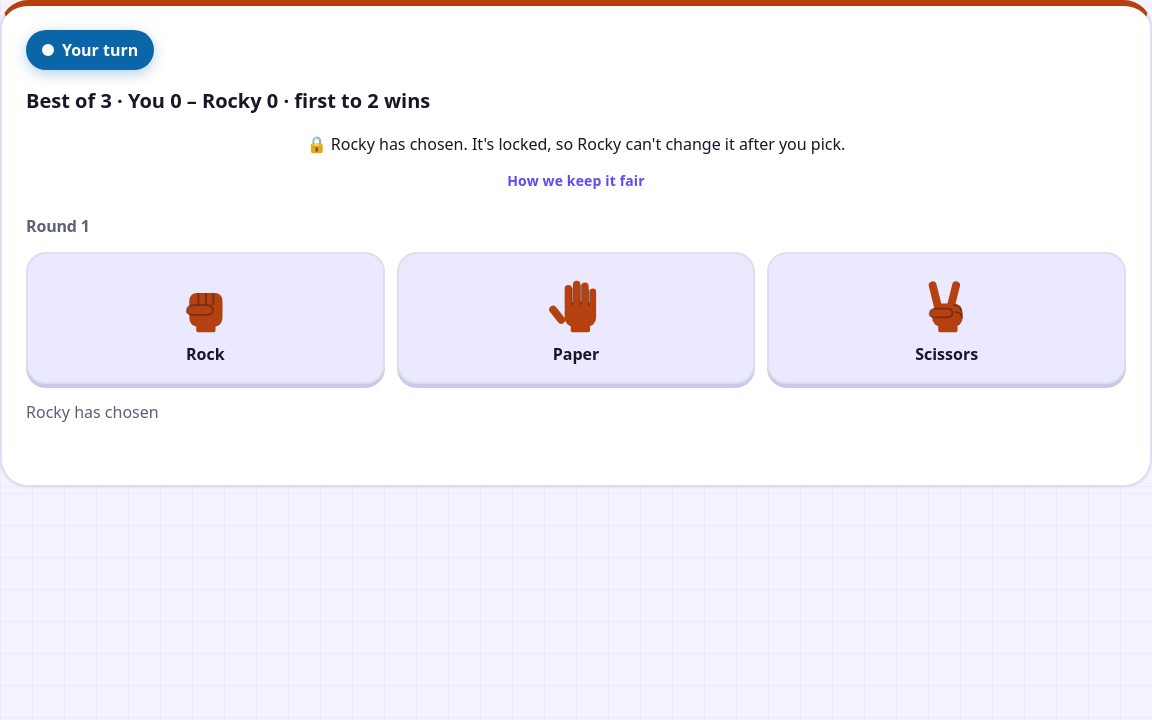
RpsBoard against a computer character › shows this round's lock in the proof before any round is over, and closes with Escape
Click the button "How we keep it fair" at [576, 180], box x1=489 y1=160 x2=663 y2=201
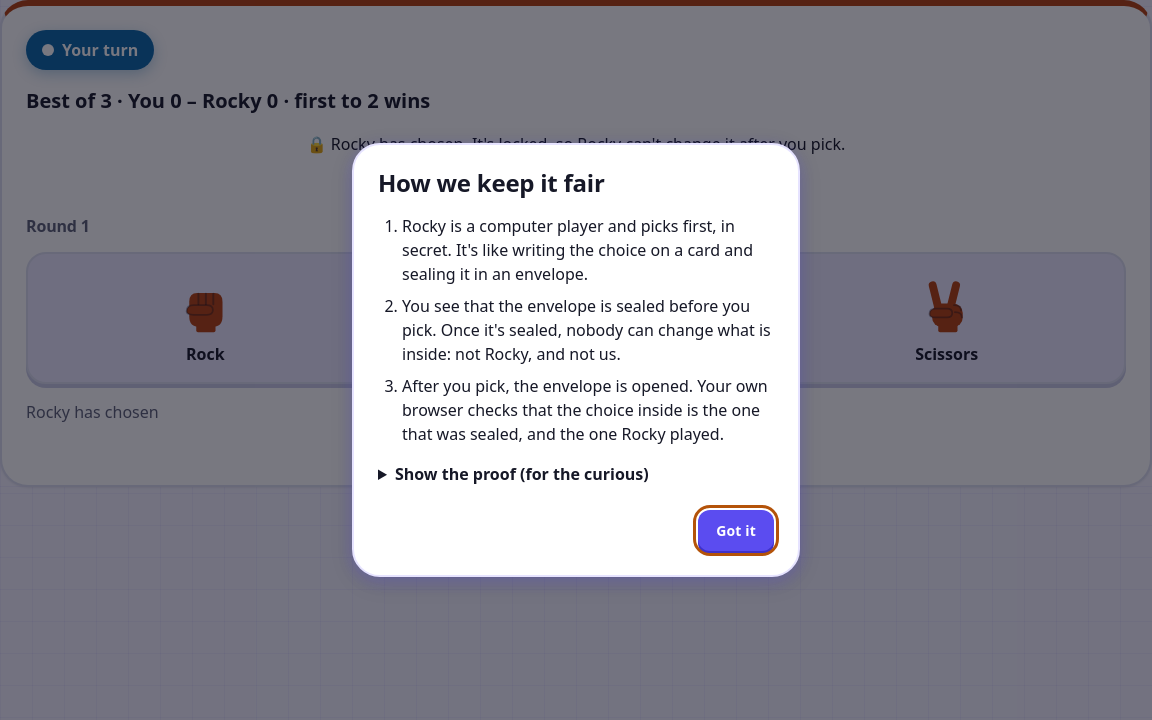
Press Escape
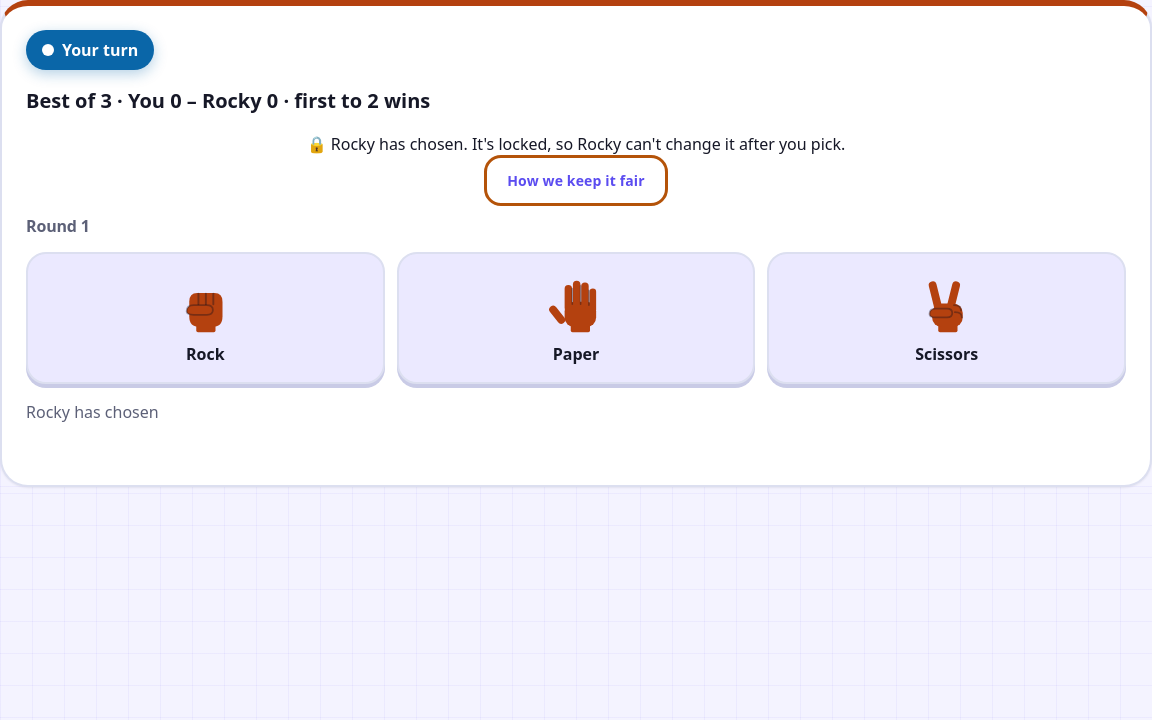
Expected: the dialog is gone
